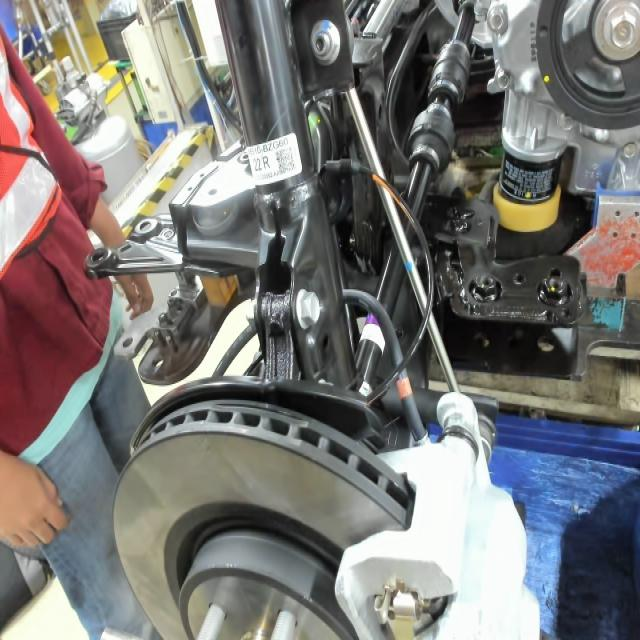Absorber RH-22: (252, 142, 294, 182)
Disc-HT: (164, 491, 333, 640)
Drive Shaft-UG: (357, 309, 391, 355)
